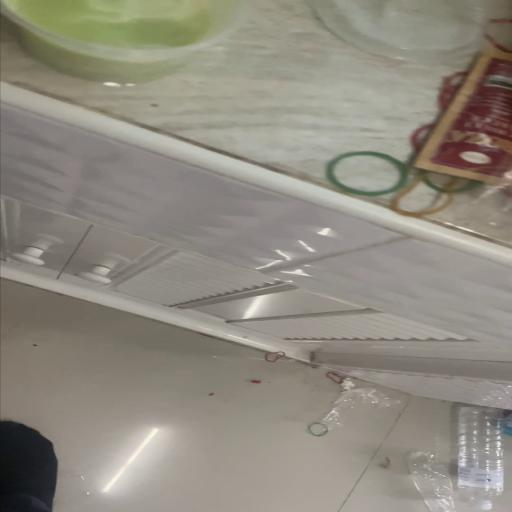street_golden_defect: (0, 0, 501, 240)
